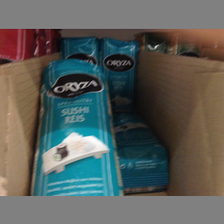rice: (29, 58, 123, 196), (111, 109, 170, 193), (100, 37, 139, 110)
